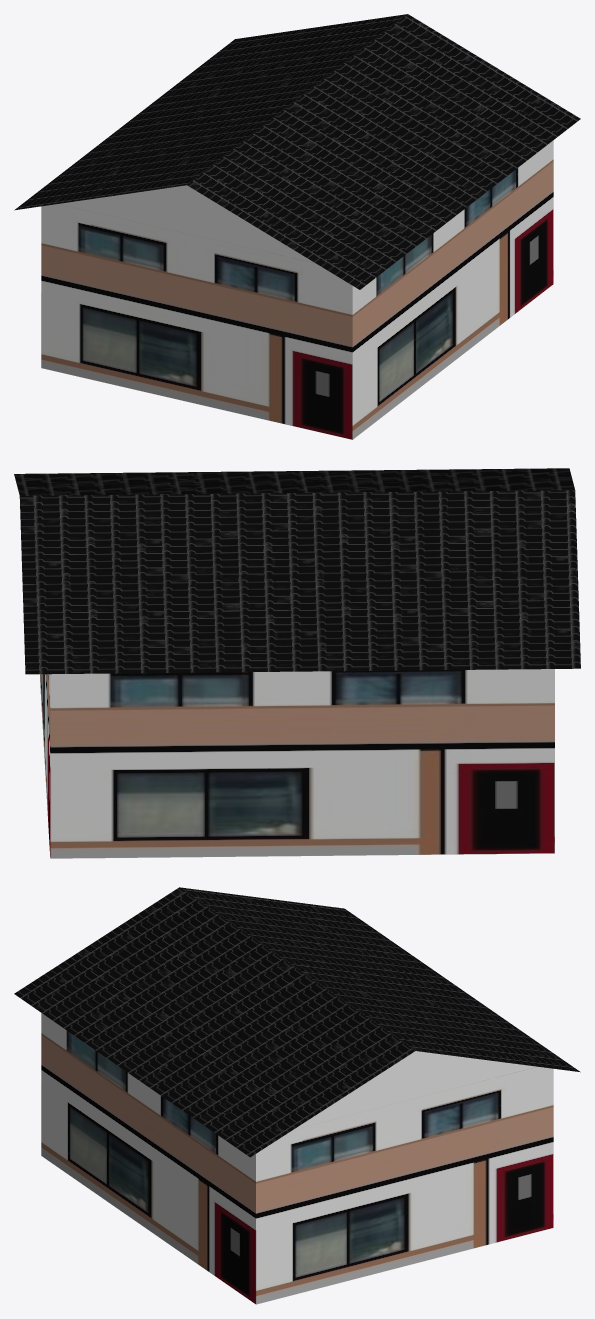
3 views of the same model, one above another, from view 1: azimuth 30°, elevation 25°; view 2: azimuth 150°, elevation 25°; view 3: azimuth 270°, elevation 25° (orthographic). The views are drawn at different scales.
Parts seen in each view (by area): view 1: CityEngineMaterial_5_m, CityEngineMaterial_14_m, CityEngineMaterial_3_m; view 2: CityEngineMaterial_14_m, CityEngineMaterial_5_m; view 3: CityEngineMaterial_5_m, CityEngineMaterial_14_m, CityEngineMaterial_3_m.
Boxes of the visible parts, <box> form: CityEngineMaterial_5_m: <box>41,140,553,439</box>; CityEngineMaterial_14_m: <box>14,14,580,289</box>; CityEngineMaterial_3_m: <box>59,185,314,262</box>; CityEngineMaterial_14_m: <box>14,468,580,674</box>; CityEngineMaterial_5_m: <box>40,669,554,858</box>; CityEngineMaterial_5_m: <box>41,1013,553,1304</box>; CityEngineMaterial_14_m: <box>14,887,580,1157</box>; CityEngineMaterial_3_m: <box>294,1051,536,1129</box>.
Bounding box in the file's own units: 28.45 × 11.87 × 27.38.
